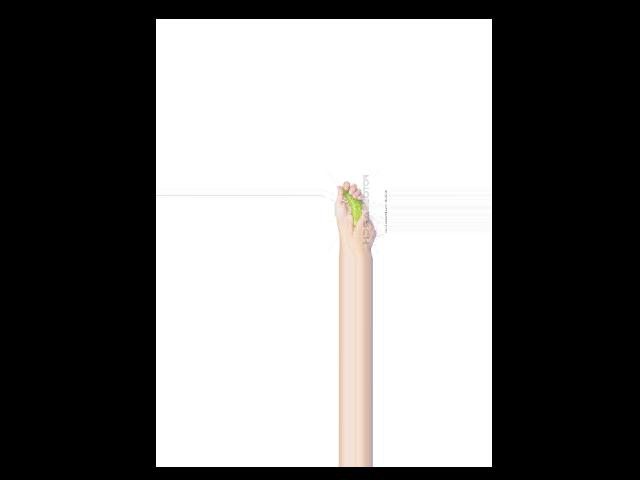cucumber: (343, 188, 363, 228)
